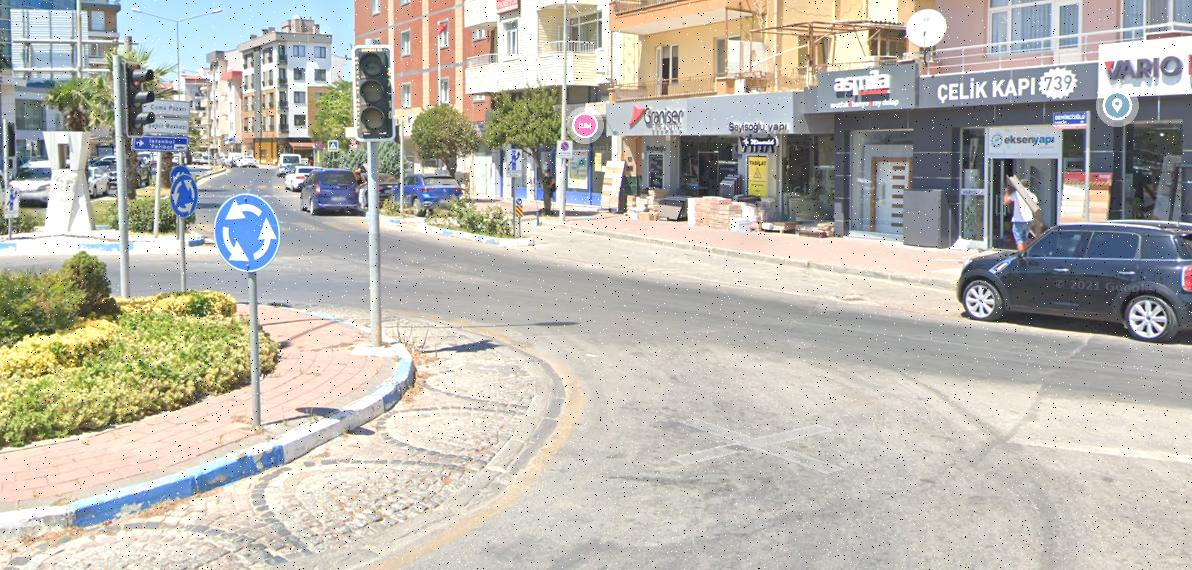crossroads: (215, 193, 282, 270), (170, 176, 199, 220)
